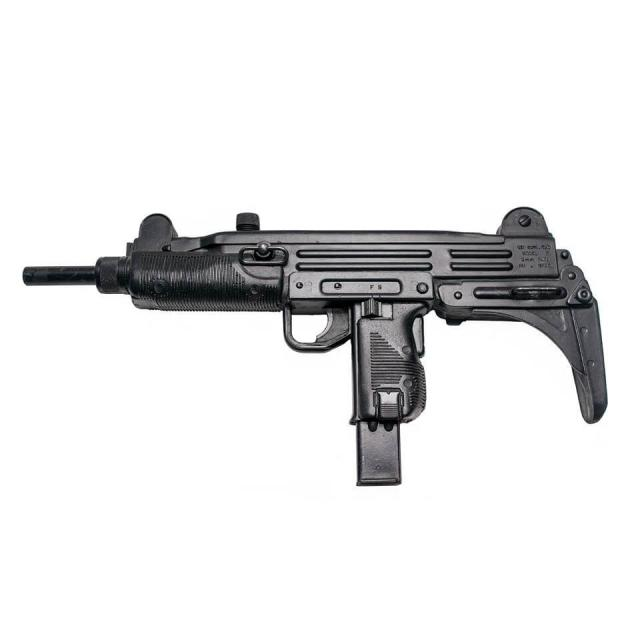SMG: (21, 207, 610, 489)
